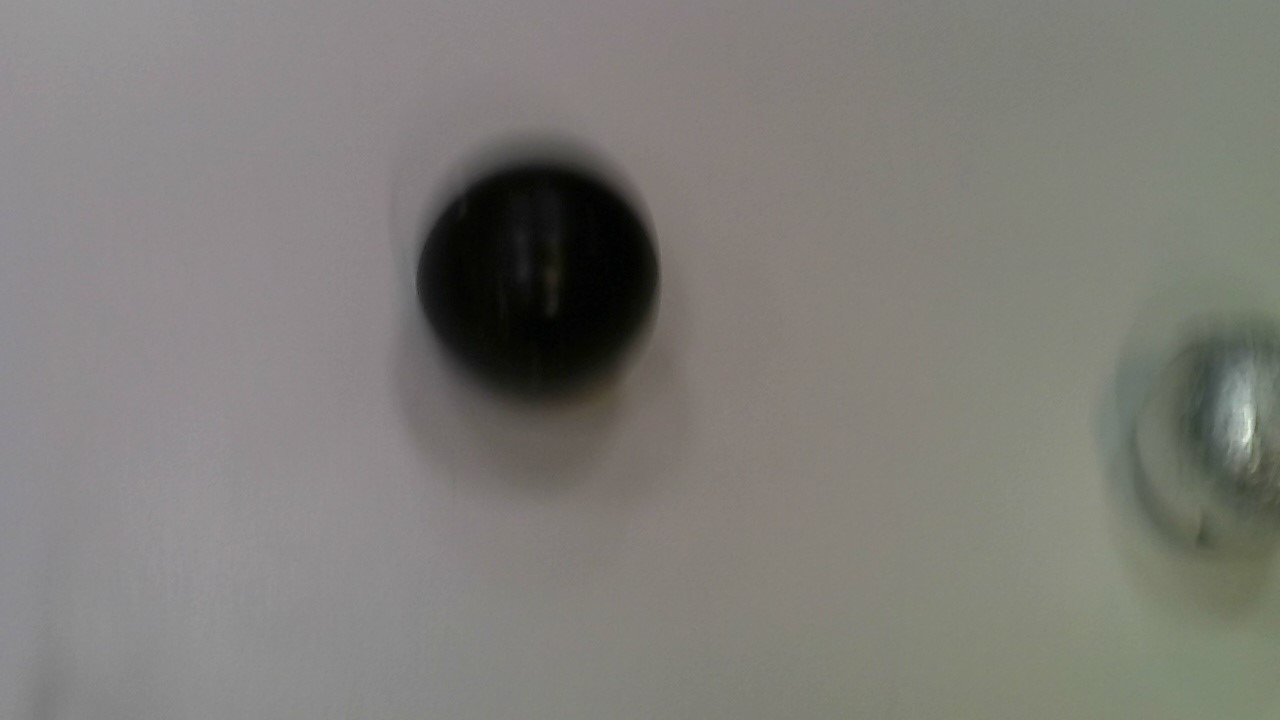black_ball: (396, 155, 681, 409)
silver_ball: (1118, 326, 1280, 562)
